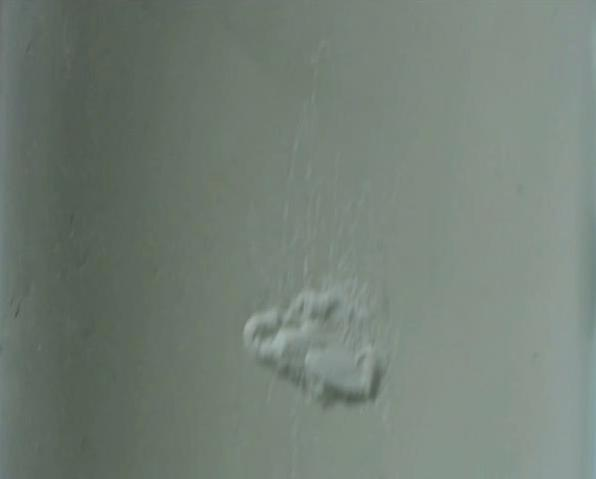sunshang: (232, 281, 399, 423)
